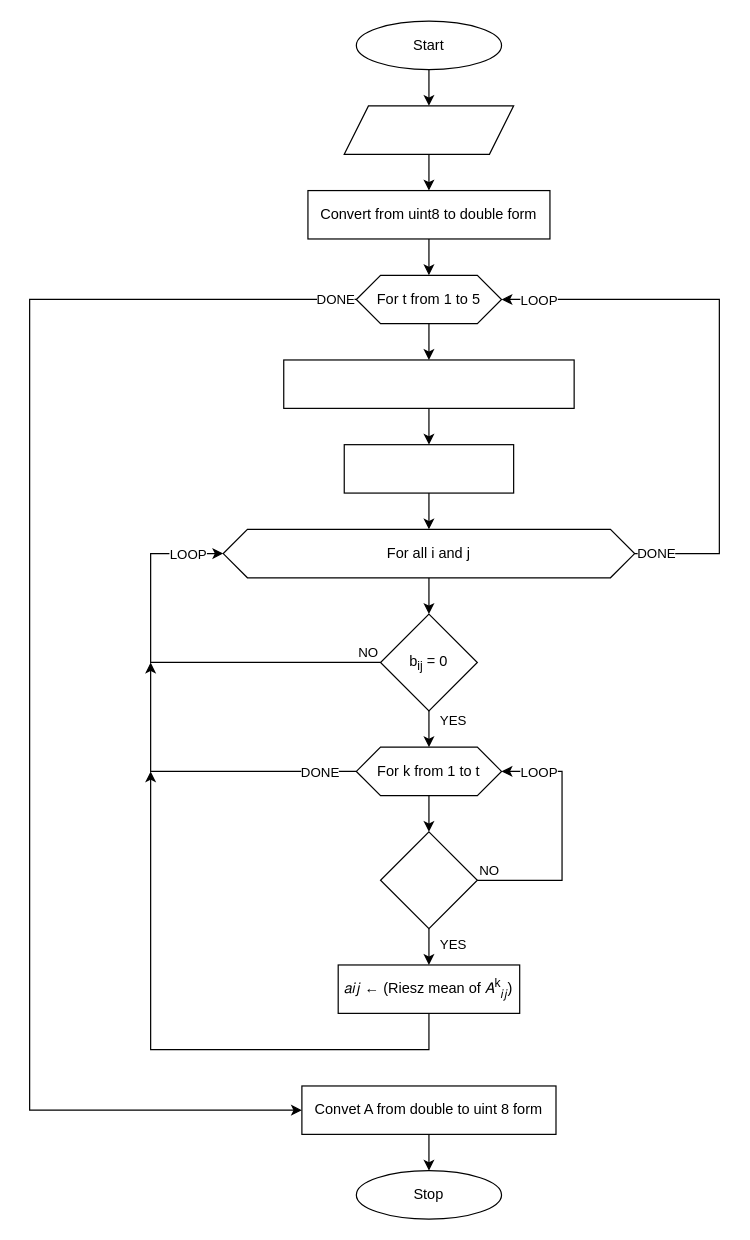
The diagram is 750 pixels wide and 1240 high, and some of its shapes have lost their labels. Each missing label, with the centre of its shape:
"Compute the binary matrix B := [b ij ] m×n of A" belongs at point 428,383.
"Compute 𝐴̿t and 𝐵̿ t" belongs at point 428,468.
"Read A := [a ij ] m×n" belongs at point 428,129.
"𝐵 k 𝑖𝑗 ≠ [0]" belongs at point 428,880.
